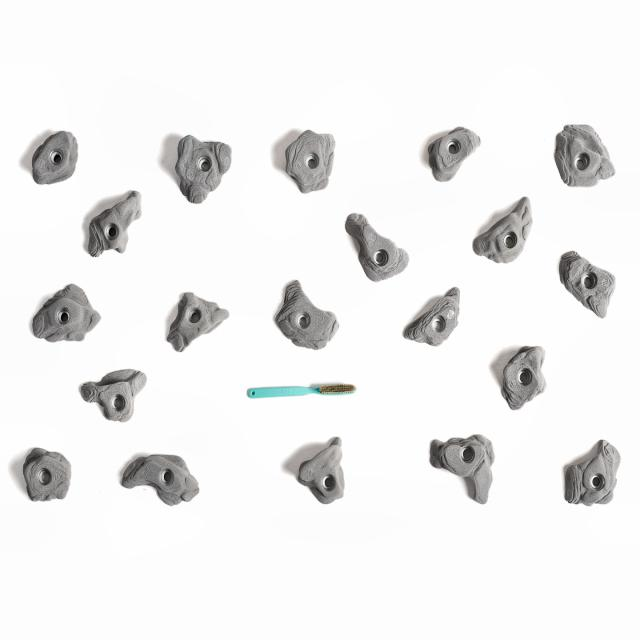Hold: (343, 210, 413, 284), (268, 279, 340, 349), (426, 430, 496, 500), (553, 117, 617, 188), (557, 239, 613, 320), (471, 190, 532, 262), (116, 454, 200, 506), (28, 282, 101, 340), (172, 132, 232, 202), (291, 439, 352, 507), (397, 288, 463, 348), (81, 191, 146, 249), (561, 441, 618, 507), (79, 368, 149, 421), (23, 127, 83, 188), (167, 292, 229, 350), (497, 342, 548, 408), (286, 128, 338, 190), (20, 446, 75, 504), (422, 129, 479, 181)
